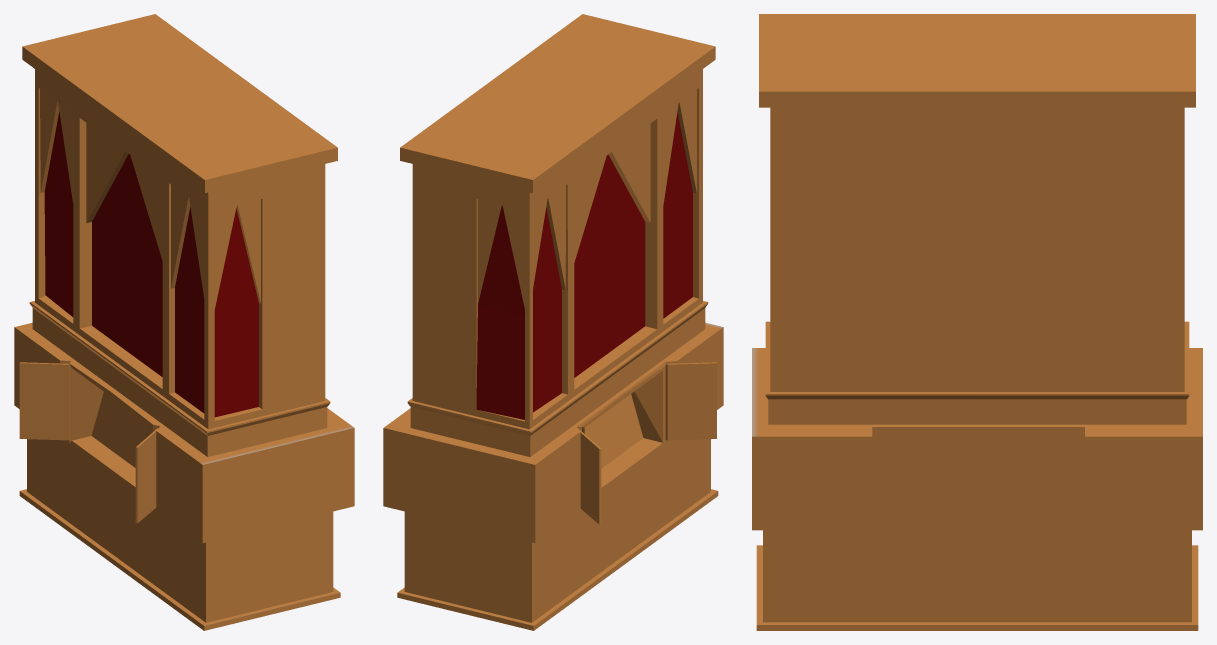
Rendered from Organ.fbx.
The picture shows the model from 3 angles, left to right: view 1: azimuth 30°, elevation 25°; view 2: azimuth 150°, elevation 25°; view 3: azimuth 270°, elevation 25°; orthographic projection. The views are drawn at different scales.
Parts seen in each view (by area): view 1: pCube24; view 2: pCube24; view 3: pCube24.
Boxes of the visible parts, bbox=[...] form: pCube24: bbox=[14, 14, 354, 630]; pCube24: bbox=[383, 14, 723, 630]; pCube24: bbox=[752, 14, 1202, 630].
Bounding box in the file's own units: 2.08 × 4.91 × 3.72.
1 material, 1 textured.
